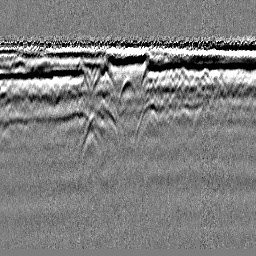cavity: (117, 75, 136, 105)
